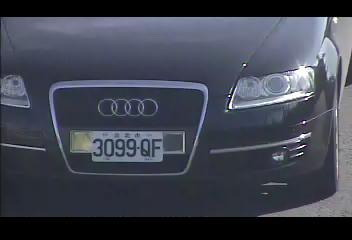plate: (90, 129, 164, 164)
